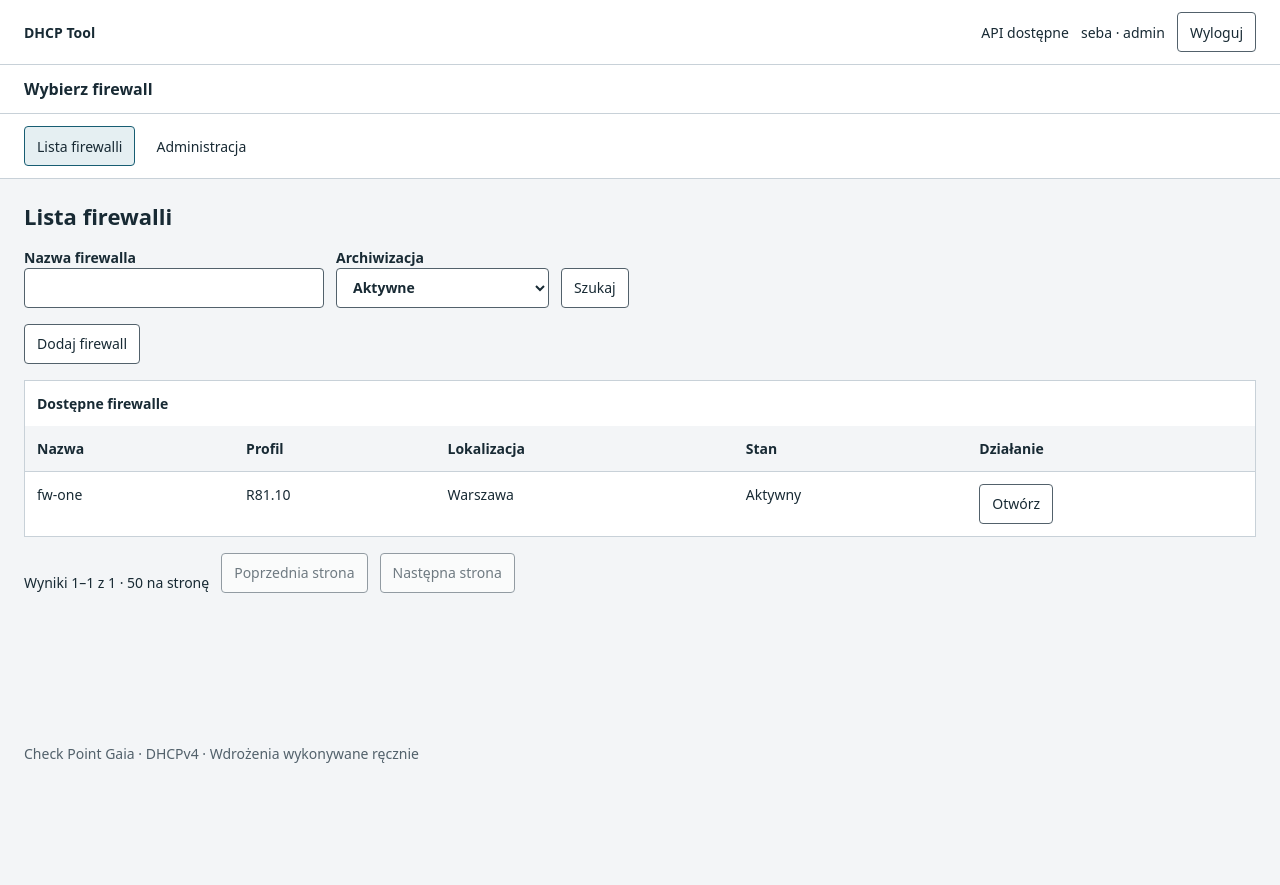
it: hides configuration write actions for archived firewalls
Click the button with aria-label "Otwórz fw-one": (1016, 504) [979, 484, 1053, 524]
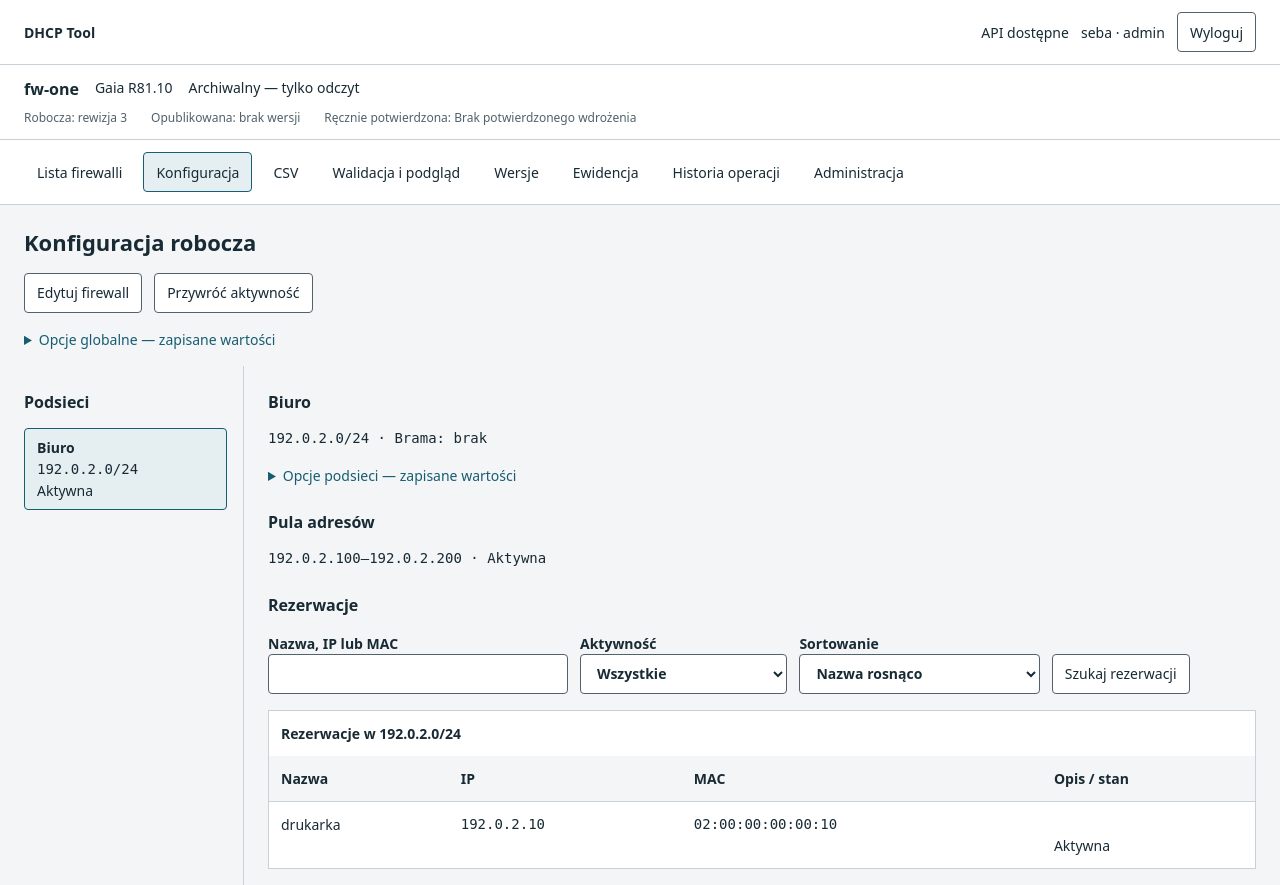
expect the heading "Konfiguracja robocza" is shown: met, box [24, 227, 256, 257]
expect the text "Archiwalny — tylko odczyt" is shown: met, box [189, 77, 360, 101]
expect the button "Przywróć aktywność" is shown: met, box [154, 272, 312, 312]
